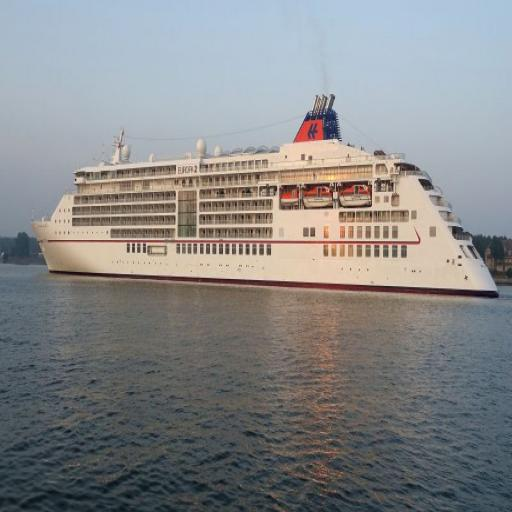cruises: (27, 86, 501, 306)
